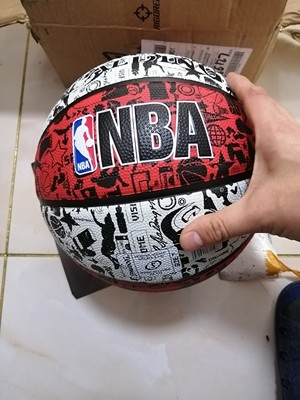ball: (33, 52, 263, 294)
